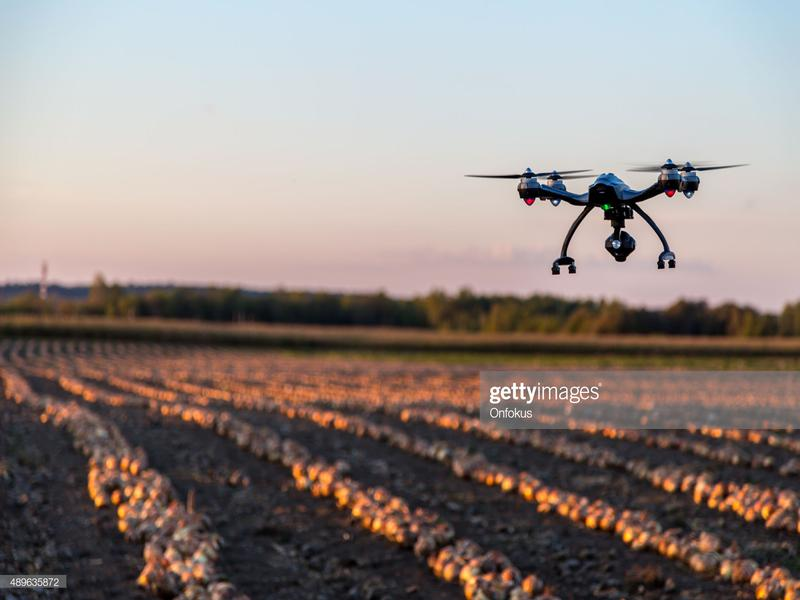enemy: (518, 164, 699, 273)
